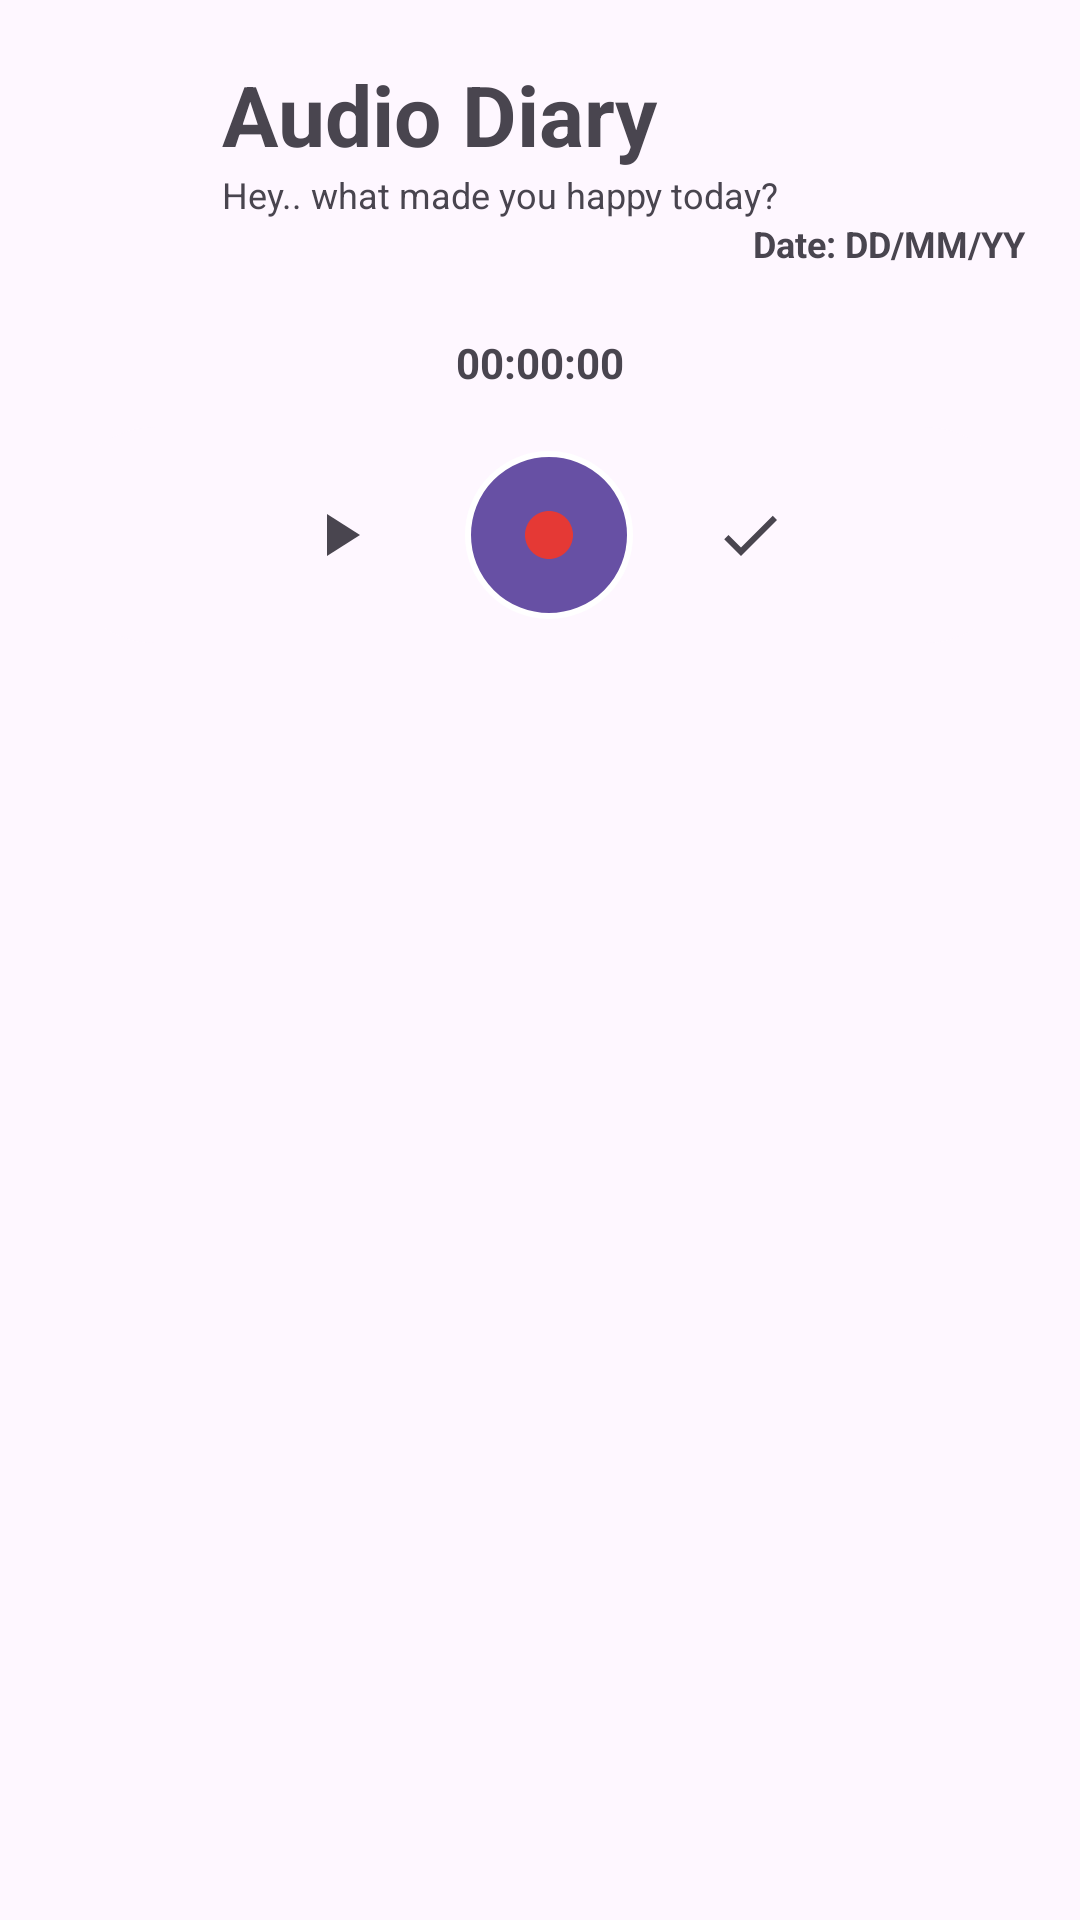

Locate icon controls on the screen. Image size 1080px x 1920px, boxes as box(x1, y1, x2, y2).
Play: box(327, 514, 360, 556)
Record: box(471, 457, 627, 613)
Save: box(724, 516, 777, 556)
